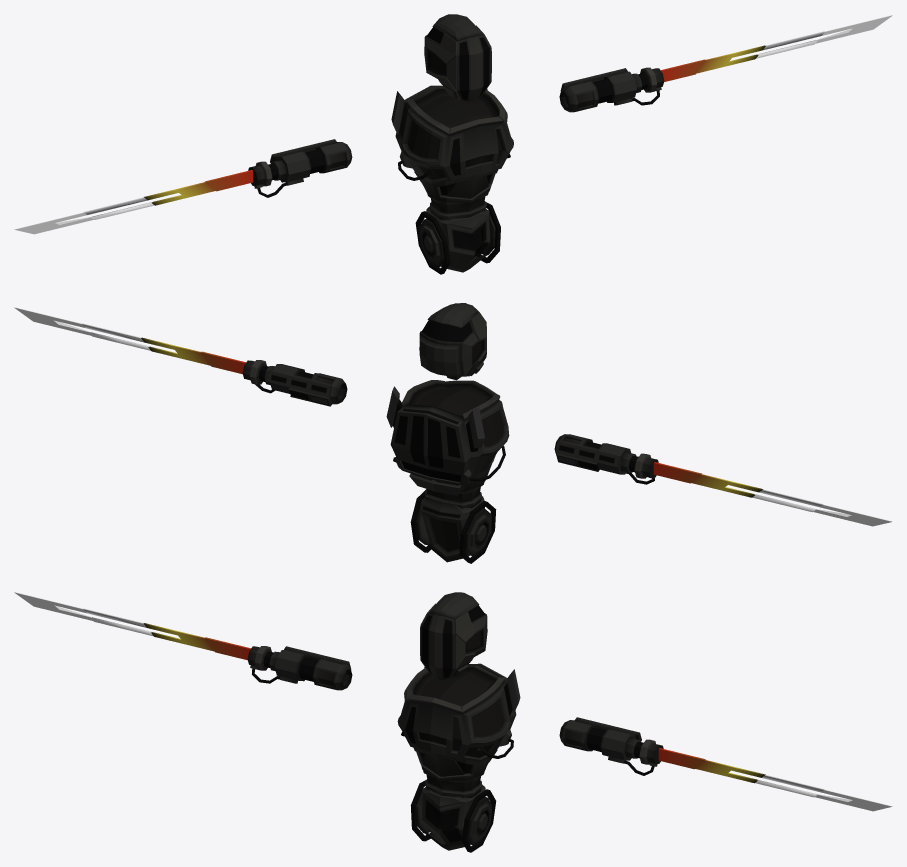
The model's file is ASSASSIN.fbx.
3 renders of one model, top to bottom at view 1: azimuth 30°, elevation 25°; view 2: azimuth 150°, elevation 25°; view 3: azimuth 330°, elevation 25°, orthographic.
Visible parts, largest first — view 1: Body, Head, Arm Left, Arm Right, BodyLower, Right Hip Disc, BodyBelt, Segment 1 Right, Segment 1 Left, Segment 3 Right, Segment 3 Left, Left Hip Disc (+4 smaller); view 2: Body, Head, Arm Right, Arm Left, BodyLower, Right Hip Disc, BodyBelt, Left Hip Disc, Segment 1 Right, Segment 3 Right, Segment 1 Left, Segment 3 Left (+3 smaller); view 3: Body, Head, Arm Right, Arm Left, BodyLower, Left Hip Disc, BodyBelt, Segment 1 Right, Segment 1 Left, Segment 3 Right, Segment 3 Left, Right Hip Disc (+4 smaller).
Boxes of the visible parts, left/top/right/bottom form: Body: left=391, top=85, right=513, bottom=203; Head: left=424, top=14, right=491, bottom=101; Arm Left: left=559, top=67, right=664, bottom=112; Arm Right: left=248, top=139, right=352, bottom=197; BodyLower: left=426, top=207, right=489, bottom=272; Right Hip Disc: left=415, top=211, right=450, bottom=274; BodyBelt: left=427, top=192, right=488, bottom=219; Segment 1 Right: left=144, top=182, right=215, bottom=205; Segment 1 Left: left=696, top=45, right=765, bottom=73; Segment 3 Right: left=14, top=212, right=93, bottom=234; Segment 3 Left: left=815, top=15, right=892, bottom=43; Left Hip Disc: left=480, top=203, right=500, bottom=263; Body: left=386, top=380, right=509, bottom=495; Head: left=419, top=303, right=486, bottom=380; Arm Right: left=554, top=434, right=658, bottom=484; Arm Left: left=242, top=360, right=347, bottom=406; BodyLower: left=421, top=496, right=484, bottom=562; Right Hip Disc: left=459, top=500, right=496, bottom=563; BodyBelt: left=424, top=483, right=483, bottom=508; Left Hip Disc: left=410, top=489, right=430, bottom=552; Segment 1 Right: left=692, top=474, right=762, bottom=497; Segment 3 Right: left=813, top=504, right=892, bottom=526; Segment 1 Left: left=141, top=337, right=210, bottom=365; Segment 3 Left: left=14, top=307, right=91, bottom=335; Body: left=397, top=663, right=520, bottom=781; Head: left=420, top=592, right=487, bottom=679; Arm Right: left=247, top=646, right=352, bottom=690; Arm Left: left=559, top=717, right=663, bottom=775; BodyLower: left=421, top=784, right=485, bottom=850; Left Hip Disc: left=461, top=789, right=496, bottom=852; BodyBelt: left=423, top=770, right=484, bottom=797; Segment 1 Right: left=143, top=623, right=214, bottom=651; Segment 1 Left: left=695, top=760, right=765, bottom=783; Segment 3 Right: left=14, top=592, right=92, bottom=620; Segment 3 Left: left=815, top=790, right=892, bottom=811; Right Hip Disc: left=410, top=781, right=431, bottom=841.
Size of the model in its own units: 323 by 87.81 by 32.56.
